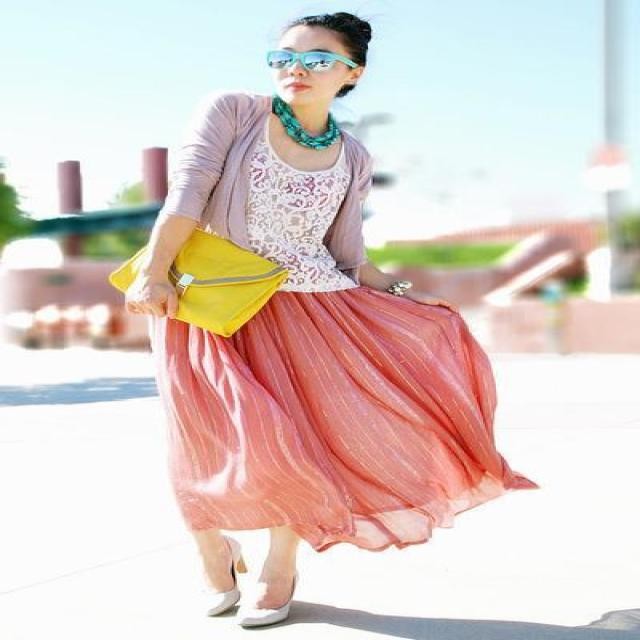bag: (109, 227, 288, 336)
jacket: (154, 95, 387, 312)
shirt: (250, 154, 366, 291)
shoe: (184, 583, 325, 626)
skirt: (165, 290, 538, 549)
